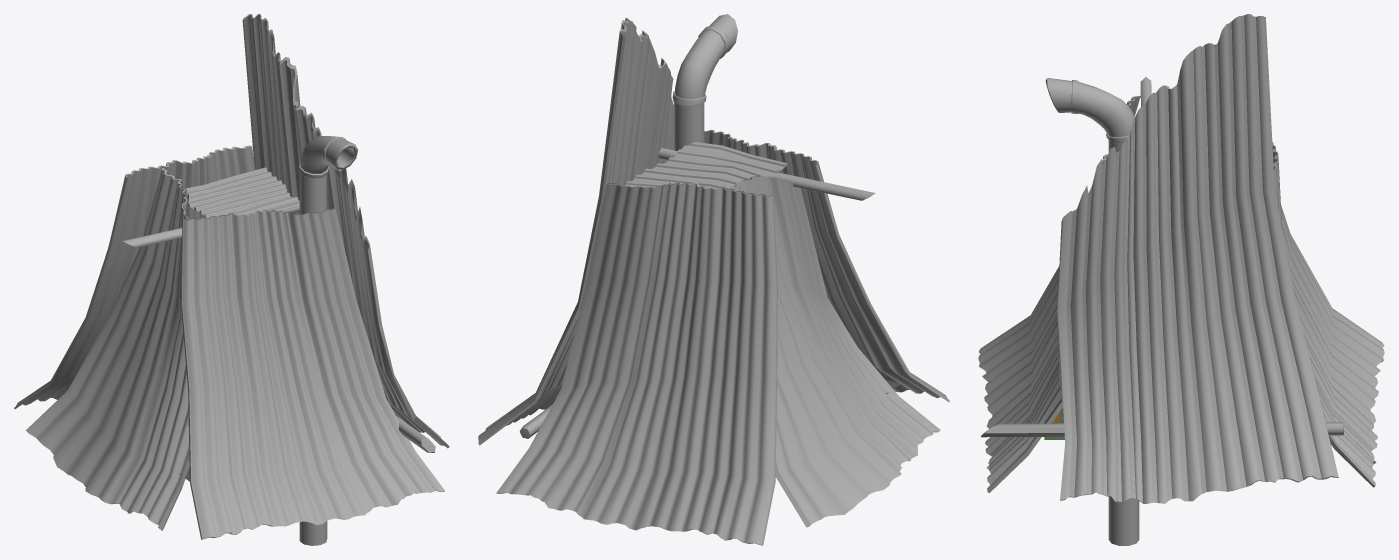
Rendered from SM_RoofTopHigh_01.fbx.
3 views of the same model, side by side, from view 1: azimuth 30°, elevation 25°; view 2: azimuth 150°, elevation 25°; view 3: azimuth 270°, elevation 25° (orthographic). The views are drawn at different scales.
Visible parts, largest first — view 1: RoofTopHigh1; view 2: RoofTopHigh1; view 3: RoofTopHigh1.
Part boxes in pixels (left/top/right/bottom): RoofTopHigh1: left=14, top=14, right=449, bottom=545; RoofTopHigh1: left=478, top=14, right=949, bottom=545; RoofTopHigh1: left=978, top=14, right=1384, bottom=545.
Bounding box in the file's own units: 707 × 1051 × 733.
